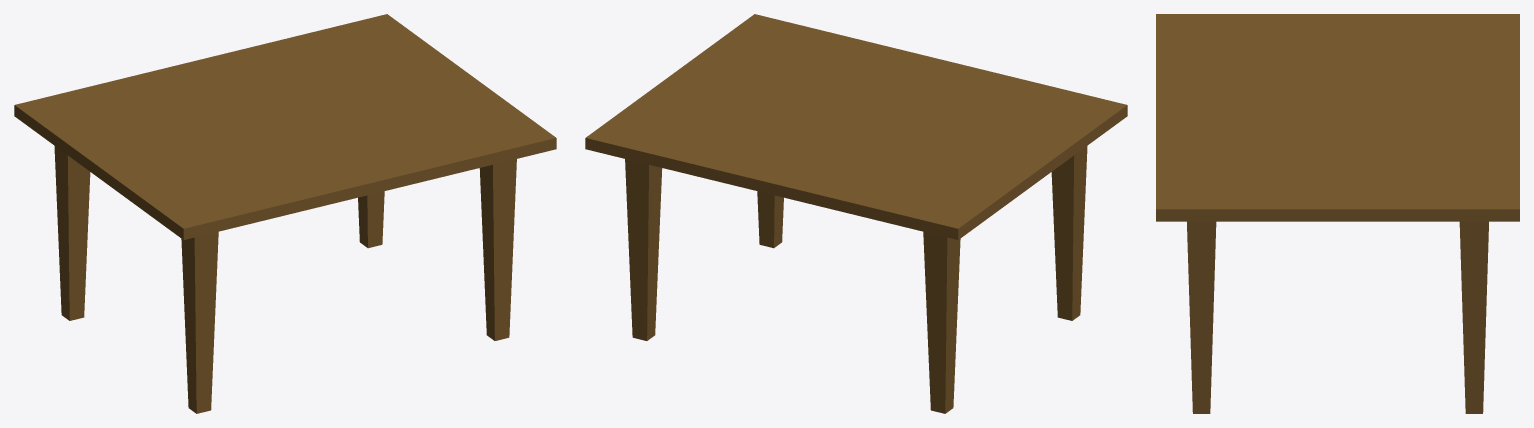
The model's file is Table.FBX.
The picture shows the model from 3 angles, left to right: view 1: azimuth 30°, elevation 25°; view 2: azimuth 150°, elevation 25°; view 3: azimuth 270°, elevation 25°; orthographic projection. The views are drawn at different scales.
Visible parts, largest first — view 1: Box005; view 2: Box005; view 3: Box005.
Boxes of the visible parts, <box> form: Box005: <box>14,14,556,413</box>; Box005: <box>585,14,1127,413</box>; Box005: <box>1156,14,1519,413</box>.
Bounding box in the file's own units: 218 × 115 × 172.
1 material, 1 textured.
